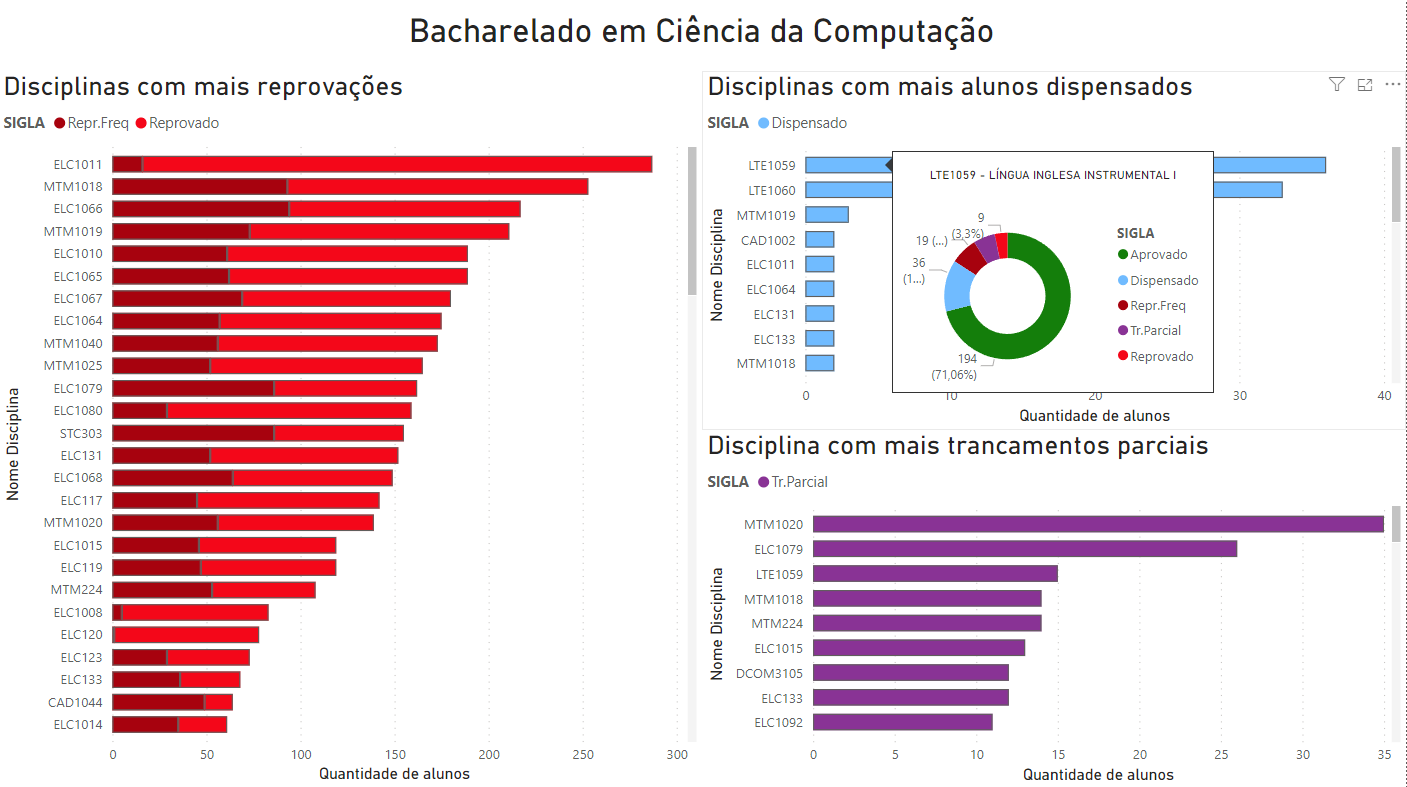

What the dashboard file says about the page in this screenshot:
{"tool":"powerbi","page":{"name":"Visao_geral2","canvas":[1280,720],"ordinal":2},"visuals":[{"type":"barChart","title":"Disciplinas com mais reprovações","fields":{"Category":["Dados.COD_DISCIPLINA"],"Y":["Sum(Dados.TOTAL_ALUNOS)"],"Series":["Dados.SIGLA"]},"box":[0,67.4,640,652.4],"z":0},{"type":"barChart","title":"Disciplinas com mais alunos dispensados","fields":{"Category":["Dados.COD_DISCIPLINA"],"Y":["Sum(Dados.TOTAL_ALUNOS)"],"Series":["Dados.SIGLA"]},"box":[640,67.4,640,326.2],"z":1000},{"type":"card","fields":{"Values":["Dados.NomeCurso"]},"box":[125,0,1028.3,56.7],"z":2000},{"type":"barChart","title":"Disciplina com mais trancamentos parciais","fields":{"Category":["Dados.COD_DISCIPLINA"],"Y":["Sum(Dados.TOTAL_ALUNOS)"],"Series":["Dados.SIGLA"]},"box":[640,393.6,640,326.2],"z":3000}]}

Visuals, with their boxes in screenshot pixels (x1, y1, x2, y2), scaled from the page's 1280x720 canvas onto the 1407x787 screenshot:
"Disciplinas com mais reprovações" barChart: {"x1": 0, "y1": 74, "x2": 704, "y2": 786}
"Disciplinas com mais alunos dispensados" barChart: {"x1": 704, "y1": 74, "x2": 1406, "y2": 430}
card - Dados.NomeCurso: {"x1": 137, "y1": 0, "x2": 1268, "y2": 62}
"Disciplina com mais trancamentos parciais" barChart: {"x1": 704, "y1": 430, "x2": 1406, "y2": 786}
